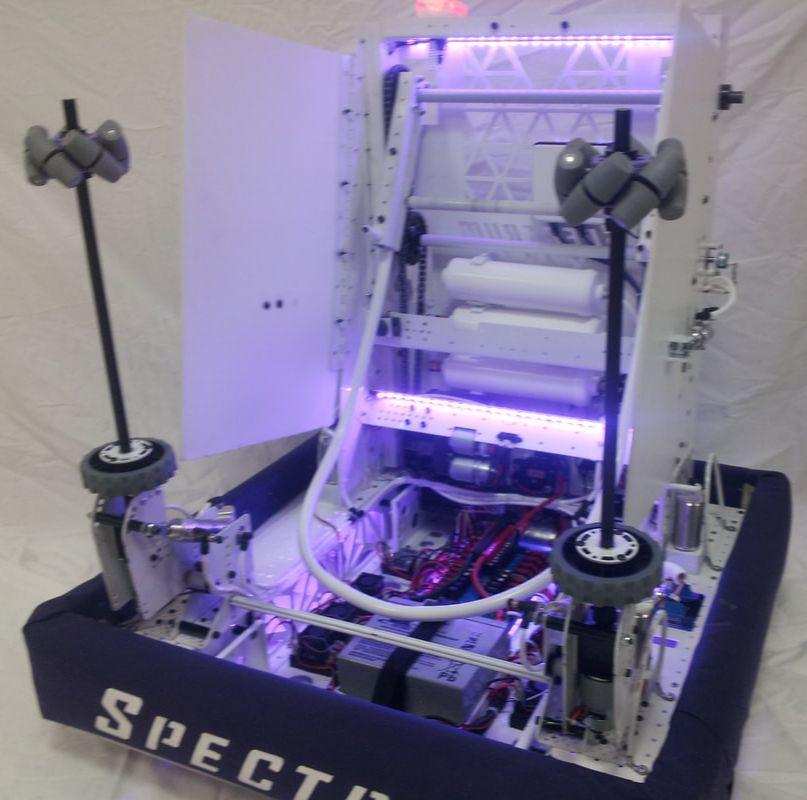robot: (17, 18, 802, 800)
